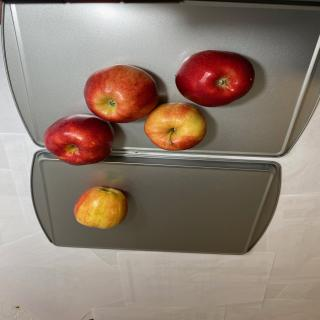Apple: (175, 50, 255, 107), (83, 64, 159, 123), (43, 114, 115, 166), (144, 102, 206, 151), (73, 186, 128, 229)
